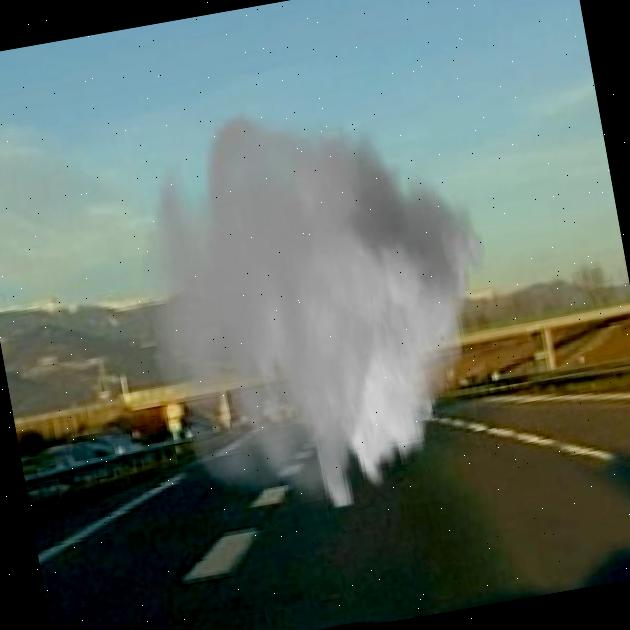smoke: (99, 83, 520, 536)
